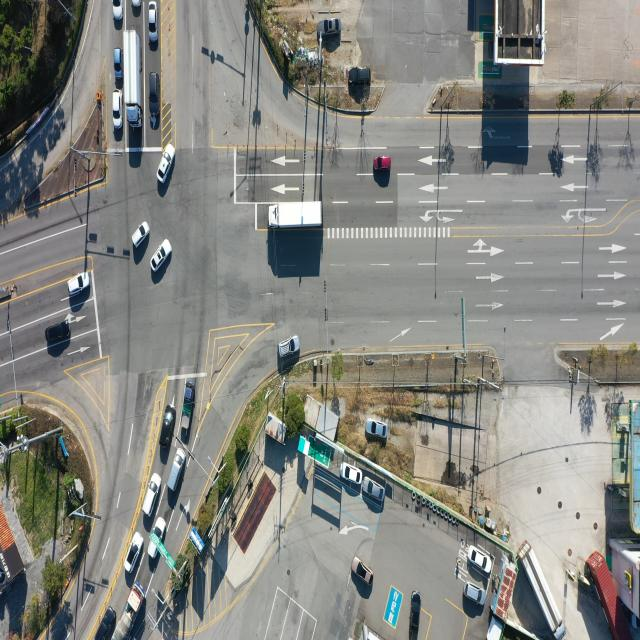car: (147, 517, 167, 562), (142, 473, 160, 518), (125, 532, 145, 572), (168, 448, 185, 493), (95, 605, 116, 640), (158, 144, 176, 184), (470, 546, 494, 575), (150, 242, 171, 274), (159, 407, 174, 449), (462, 582, 486, 607), (352, 558, 373, 586), (364, 478, 386, 504), (45, 323, 69, 345), (68, 272, 90, 296), (278, 336, 300, 359), (132, 222, 150, 250), (342, 462, 363, 483), (411, 591, 422, 631), (149, 72, 159, 115), (365, 419, 386, 438), (350, 66, 371, 85), (112, 92, 122, 128), (148, 3, 157, 42), (323, 18, 340, 34), (374, 158, 392, 172), (112, 0, 123, 20), (114, 48, 121, 78), (133, 0, 142, 9)
medium_truck: (520, 539, 566, 637), (112, 585, 146, 640), (127, 31, 143, 126), (268, 202, 322, 230)
small_truck: (180, 376, 194, 436)
